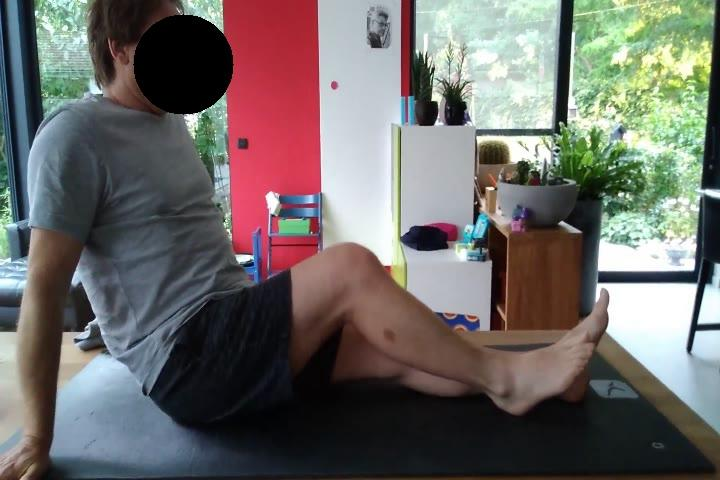lower_body: (152, 240, 612, 430)
